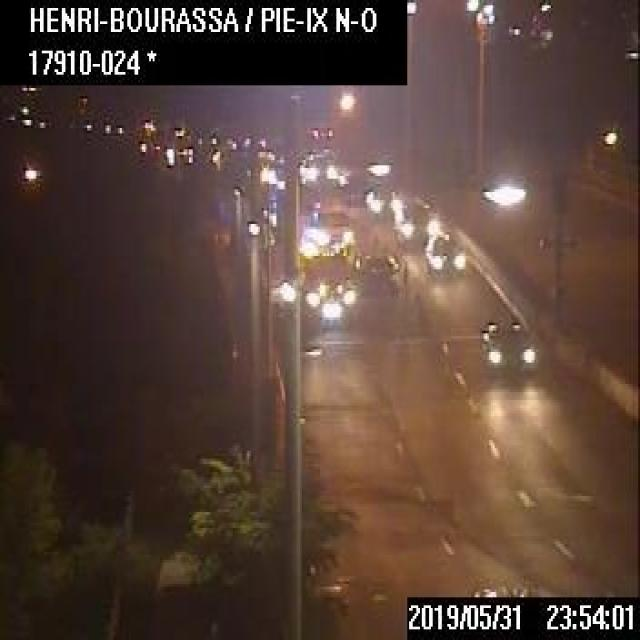vehicle: (298, 251, 358, 325), (476, 317, 536, 371), (302, 207, 353, 250), (392, 205, 439, 250), (356, 252, 400, 294), (424, 232, 464, 275), (302, 151, 335, 188), (364, 187, 403, 218)
